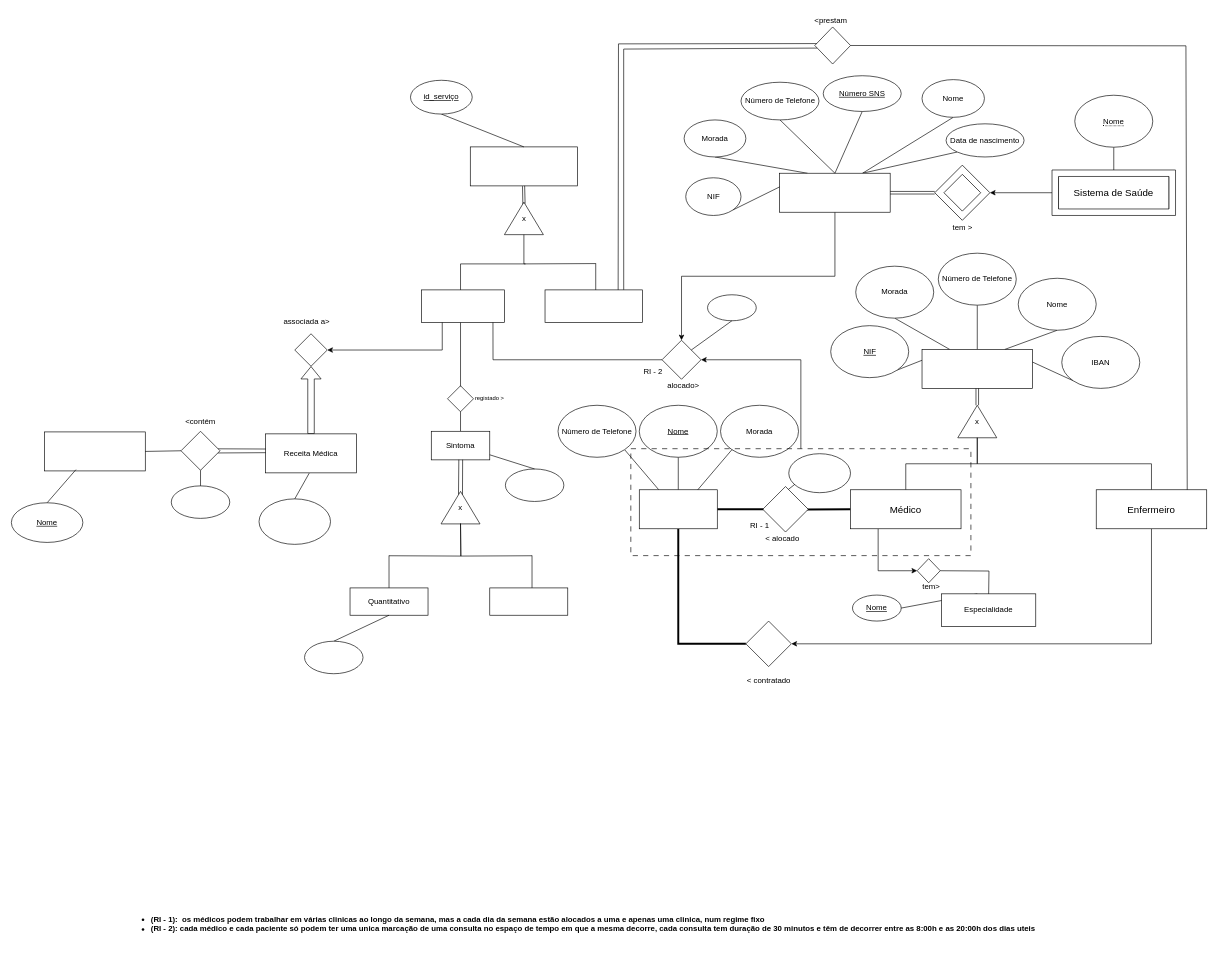
The diagram is 1218 pixels wide and 955 high, and some of its shapes have lost their labels. The centre of each missing label's shape, as x and y in pixels:
Clínica: the point at 678,509
Consulta: the point at 462,305
Código SNS: the point at 294,521
Dia da semana: the point at 819,473
Horário: the point at 731,307
Medicamento: the point at 94,451
Paciente: the point at 834,192
Parâmetro: the point at 534,484
Profissional de Saúde: the point at 977,368
Qualitativo: the point at 528,601
Quantidade: the point at 200,501
Serviço de enfermagem: the point at 593,305
Serviço de Saúde: the point at 524,166
Valor: the point at 333,657
